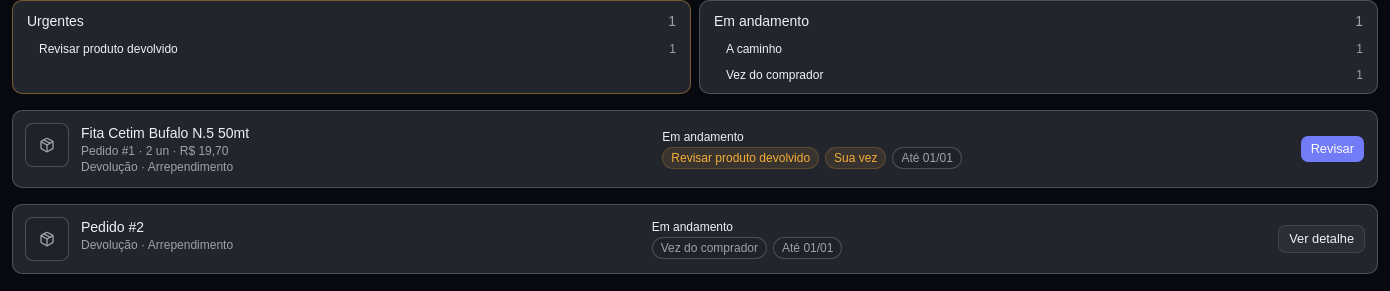
Test: 7. contadores filtram a lista › sub-item "A caminho" filtra só os que estão em trânsito
Click the button "A caminho 1" at (754, 49), box left=706, top=37, right=1371, bottom=61
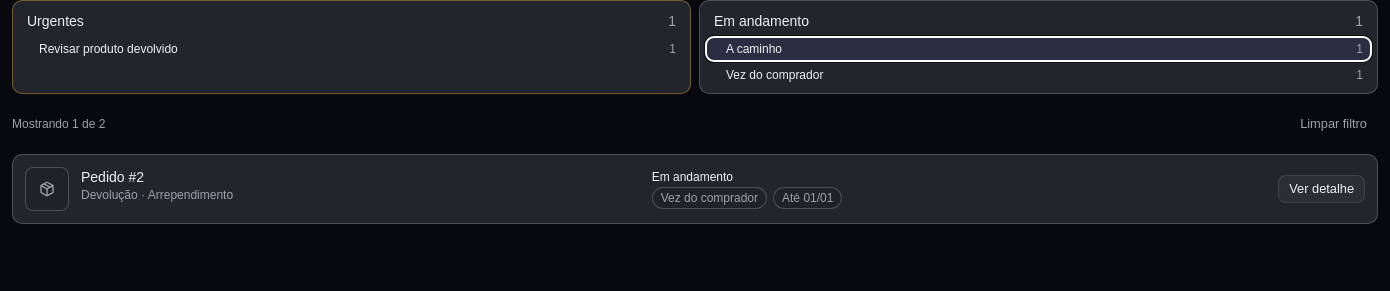
Expected: the text "Pedido #2" is shown once, left=81, top=169, right=144, bottom=185
